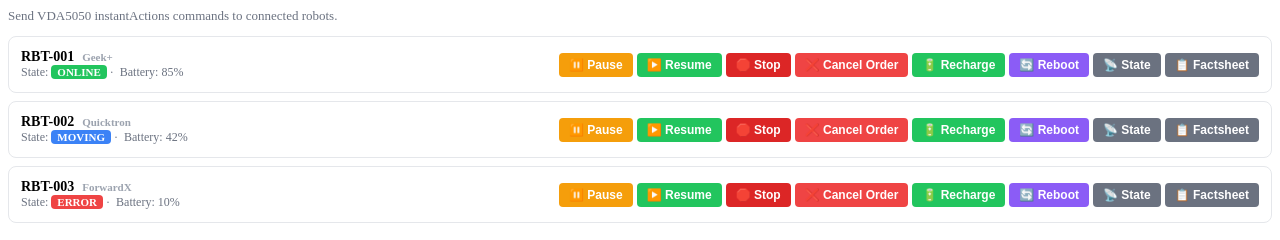
Test: CommandPanel — 指令下发控制台 › disables only the clicked button while sending command
Check: the text "RBT-001" is shown, box [21,49,74,64]
Note: Click Pause on first robot (RBT-001)
Click the button "⏸️ Pause" in the row of "85%" at (596, 64), box [559,52,633,76]
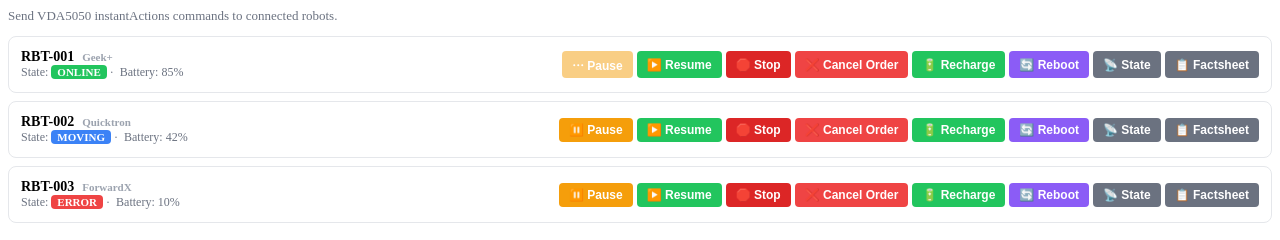
Check: the button "▶️ Resume" in the row of "85%" is enabled, box [637,51,722,78]
Check: the button "⋯ Pause" is disabled, box [562,51,633,78]
